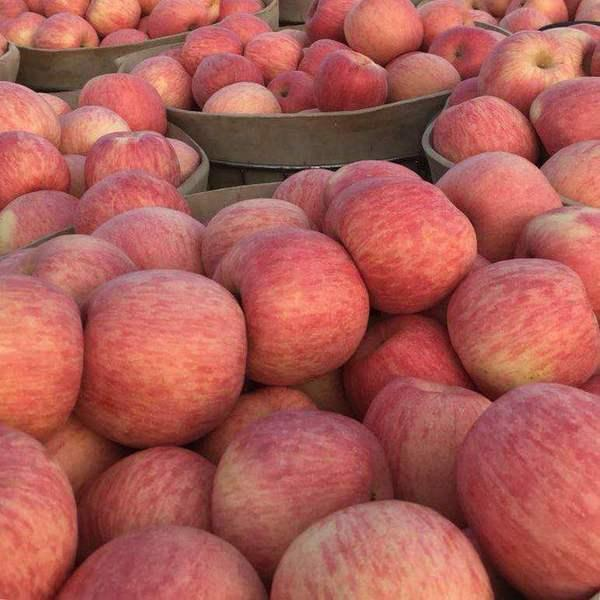apple: (454, 380, 599, 594), (78, 268, 249, 448), (211, 410, 393, 550), (210, 228, 369, 387), (265, 496, 495, 596), (320, 174, 478, 314), (445, 257, 595, 397), (362, 376, 490, 526), (2, 426, 85, 598), (1, 271, 83, 443), (438, 150, 556, 263), (74, 448, 214, 537), (518, 207, 600, 320), (81, 130, 201, 192), (86, 66, 174, 130), (341, 1, 423, 66), (314, 48, 388, 111), (426, 28, 504, 78)
